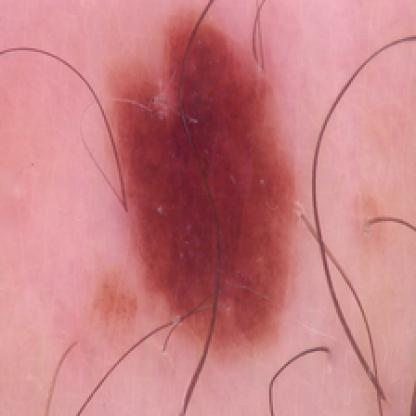benign: (113, 17, 305, 345)
